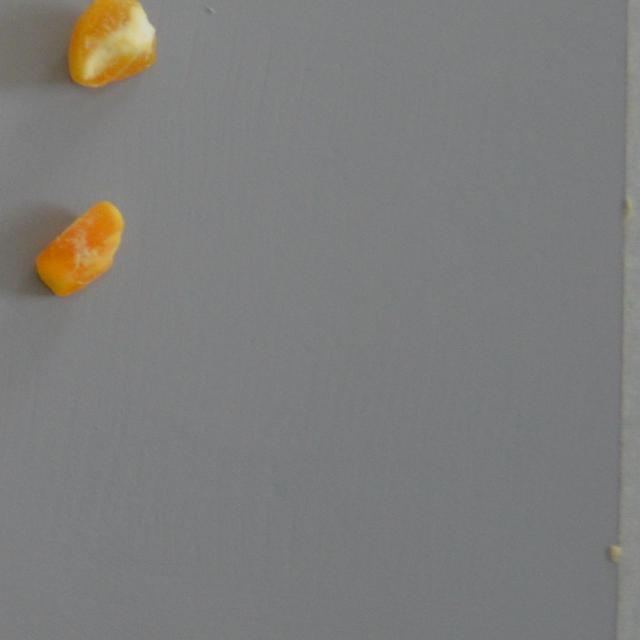pelicula: (36, 198, 128, 298), (67, 0, 160, 88)
